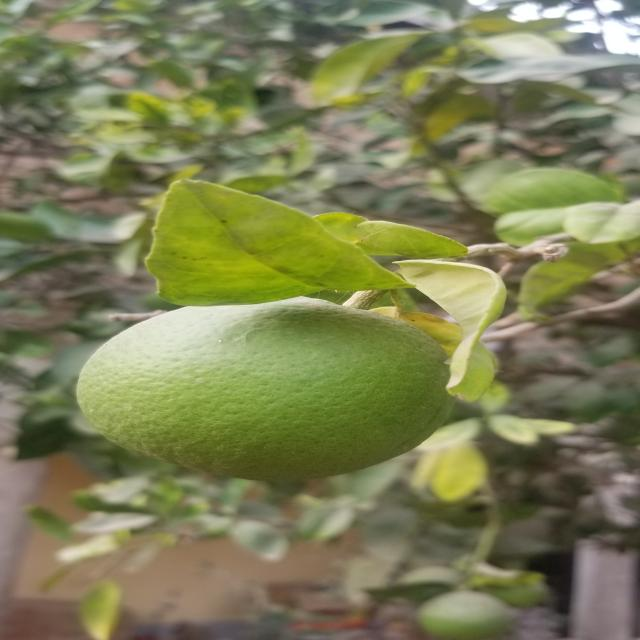Unripe: (72, 294, 447, 500)
